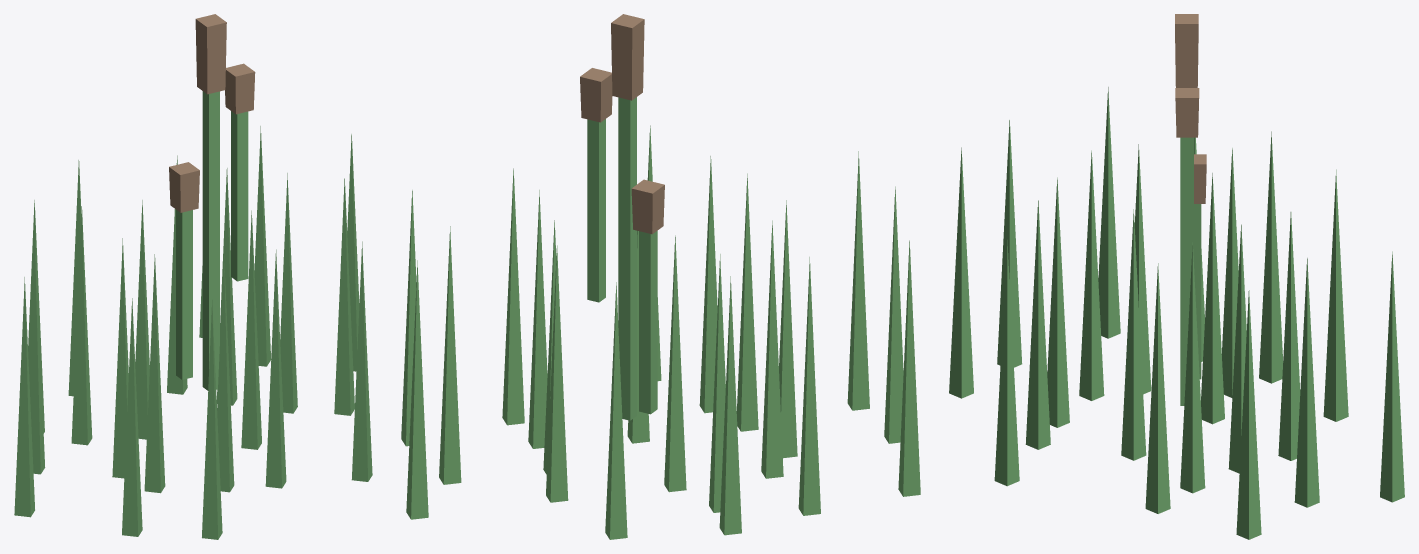
File: gress.fbx
The picture shows the model from 3 angles, left to right: view 1: azimuth 30°, elevation 25°; view 2: azimuth 150°, elevation 25°; view 3: azimuth 270°, elevation 25°; orthographic projection. The views are drawn at different scales.
Parts seen in each view (by area): view 1: grass6; view 2: grass6; view 3: grass6.
Part boxes in pixels (x1,y1,x2,y2): grass6: (14, 14, 372, 539); grass6: (401, 14, 920, 539); grass6: (949, 14, 1404, 539).
Size of the model in its own units: 2.04 by 1.93 by 1.86.
